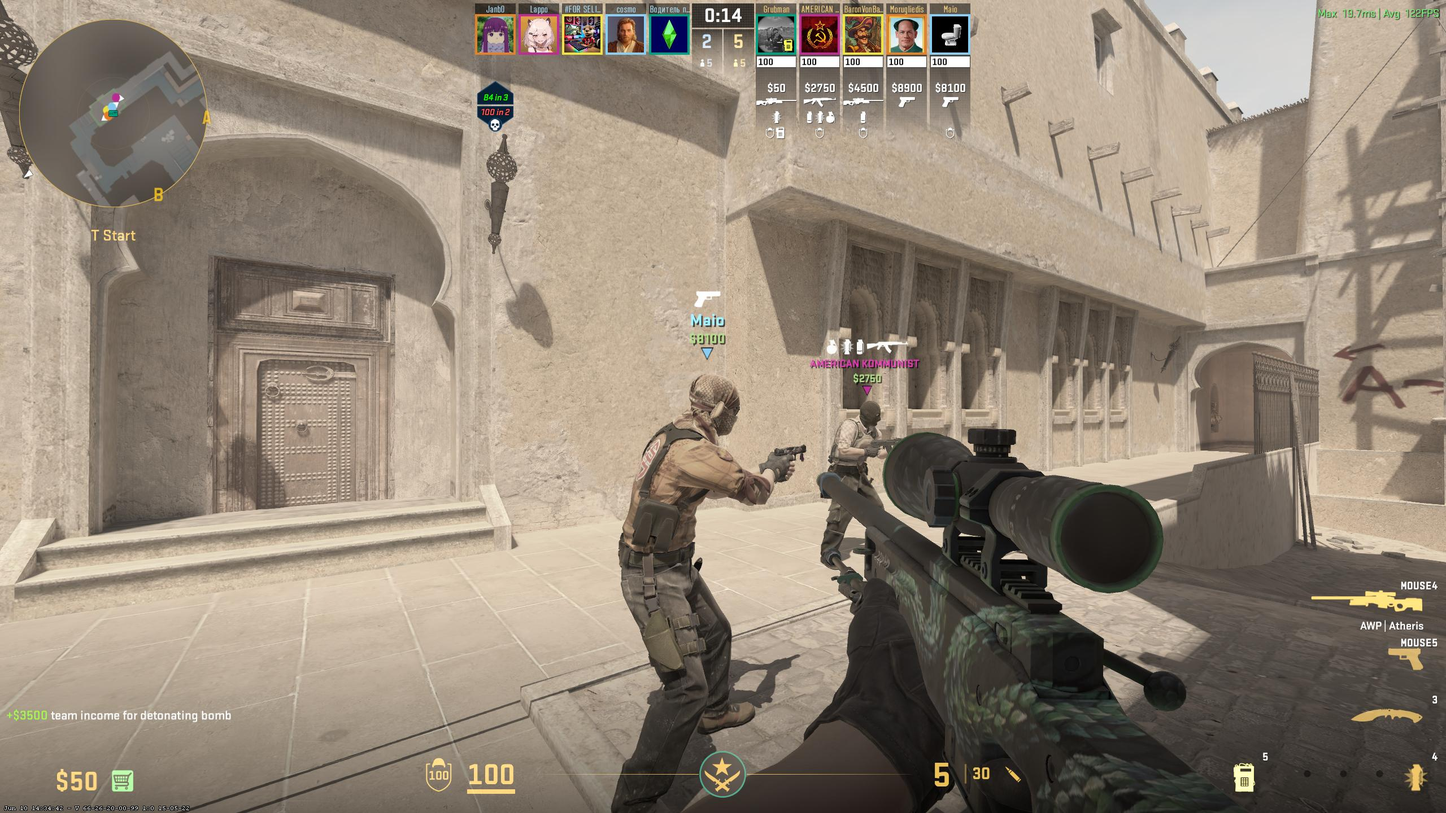Terrorist: (617, 381, 785, 813), (820, 414, 891, 571)
